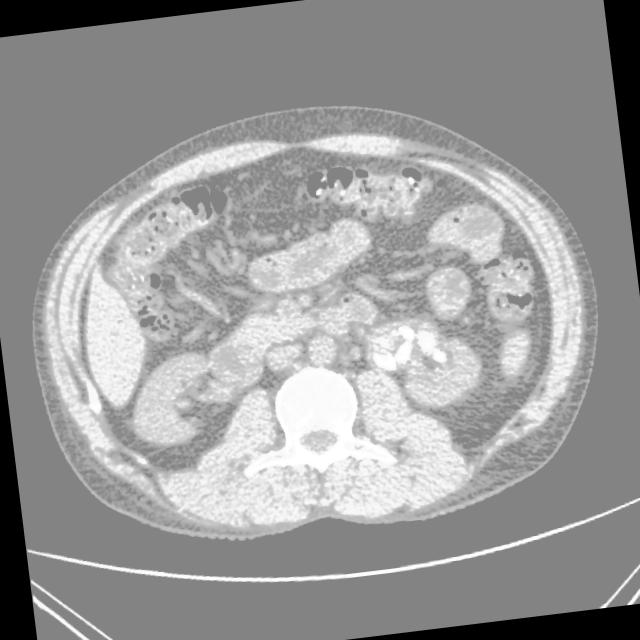STONE: (61, 120, 555, 478)
